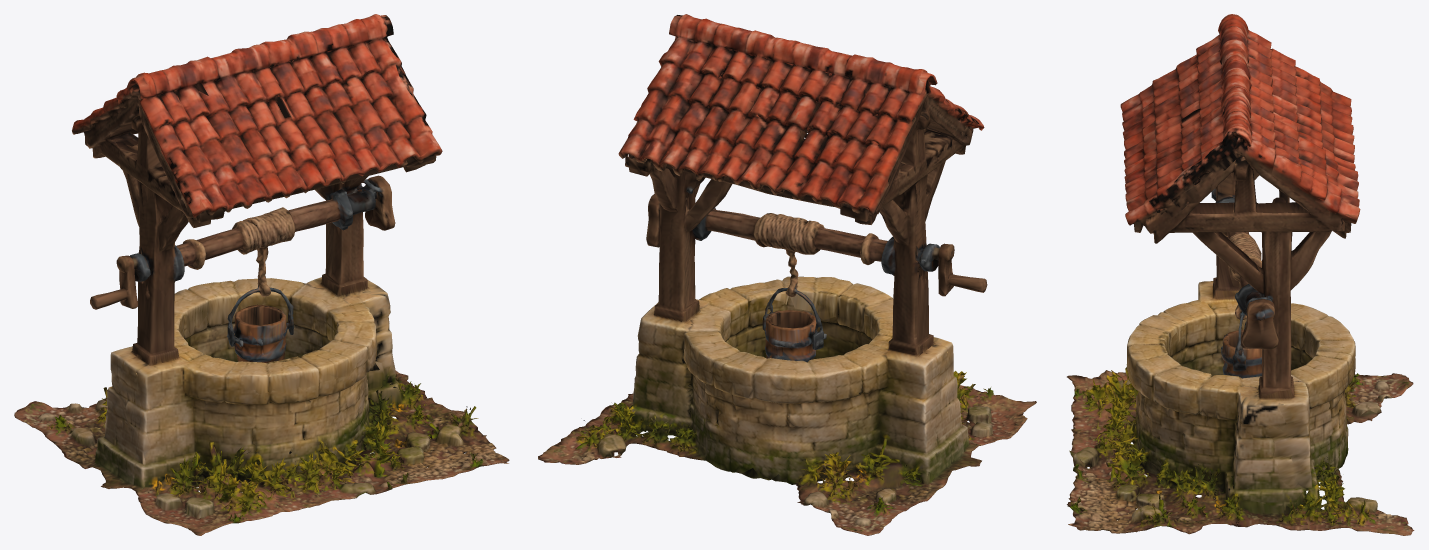
Rendered from SM_Pozo.fbx.
The picture shows the model from 3 angles, left to right: view 1: azimuth 30°, elevation 25°; view 2: azimuth 150°, elevation 25°; view 3: azimuth 270°, elevation 25°; orthographic projection. The views are drawn at different scales.
Parts seen in each view (by area): view 1: SM_Pozo; view 2: SM_Pozo; view 3: SM_Pozo.
Part boxes in pixels (left/top/right/bottom): SM_Pozo: left=14, top=14, right=509, bottom=535; SM_Pozo: left=538, top=14, right=1036, bottom=535; SM_Pozo: left=1067, top=14, right=1414, bottom=535.
Bounding box in the file's own units: 99.92 × 107 × 87.82.
1 material, 1 textured.
